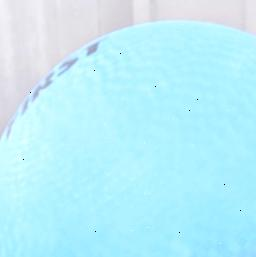algae: (0, 19, 256, 257)
